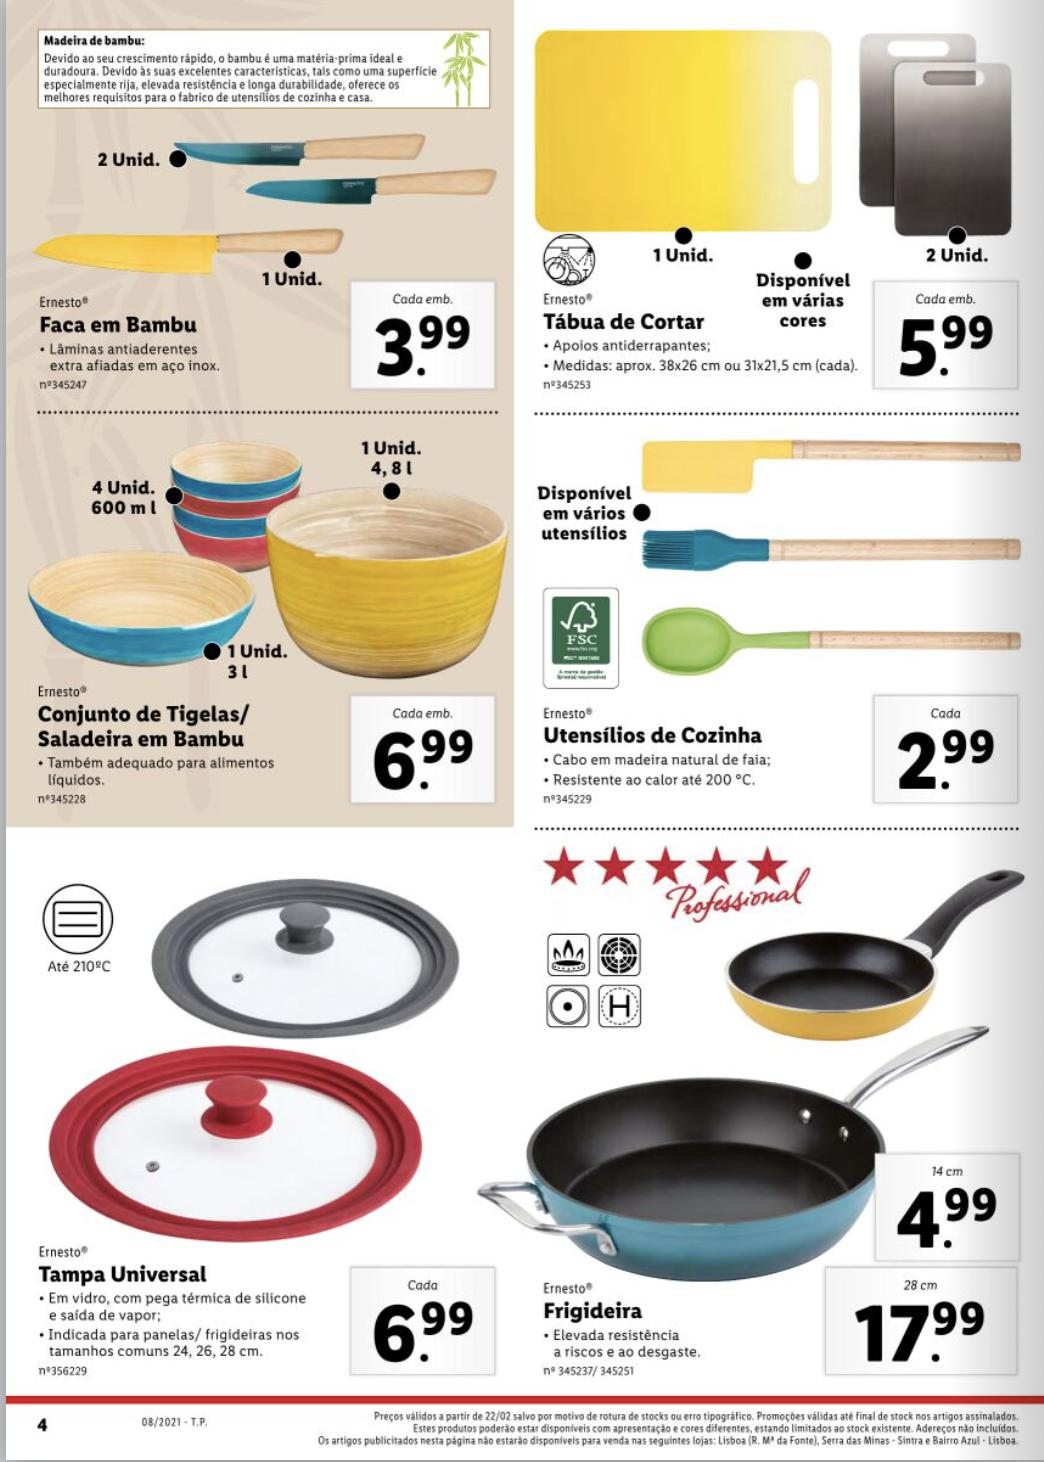name: (29, 700, 256, 754), (543, 723, 762, 754), (36, 1258, 212, 1293), (543, 305, 712, 337), (29, 312, 203, 341), (538, 1295, 651, 1326)
price: (851, 1299, 989, 1368), (371, 1297, 478, 1374), (898, 723, 1000, 795), (896, 1186, 1003, 1254), (372, 312, 475, 381), (372, 728, 476, 794), (896, 315, 998, 383)
product: (511, 832, 1042, 1389), (12, 830, 511, 1389), (16, 6, 503, 415), (525, 14, 1032, 403), (536, 430, 1030, 825), (3, 428, 505, 813)
